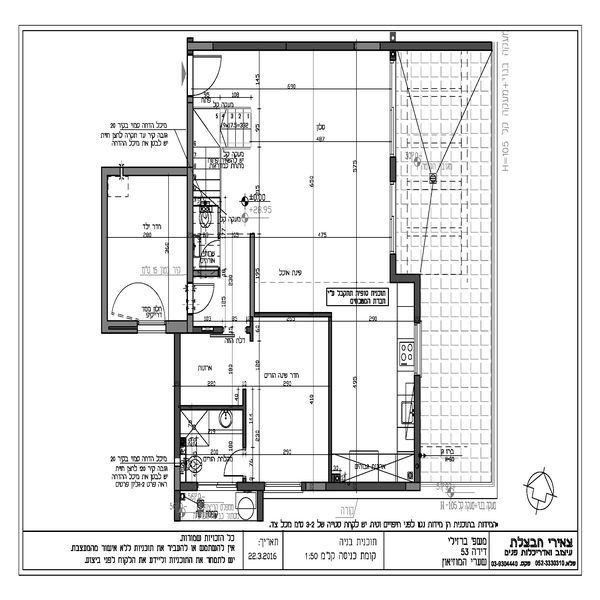door: (182, 54, 228, 100), (222, 442, 257, 476), (185, 279, 216, 316), (194, 240, 225, 268)
room: (176, 30, 401, 321), (166, 304, 336, 489), (327, 267, 427, 487), (88, 157, 200, 341)
wall: (317, 317, 340, 478), (95, 162, 113, 340), (185, 37, 395, 52), (167, 334, 182, 521), (407, 367, 428, 489), (184, 94, 197, 285), (395, 36, 492, 61), (302, 478, 422, 494), (102, 164, 197, 184), (240, 237, 261, 324), (251, 310, 336, 324), (395, 270, 430, 294), (167, 317, 199, 338), (237, 475, 268, 496), (241, 389, 252, 448), (378, 158, 403, 183), (178, 404, 247, 413), (256, 485, 267, 521)
window: (387, 60, 403, 161), (388, 182, 401, 255), (199, 475, 239, 492), (414, 324, 425, 375), (141, 319, 167, 337)
